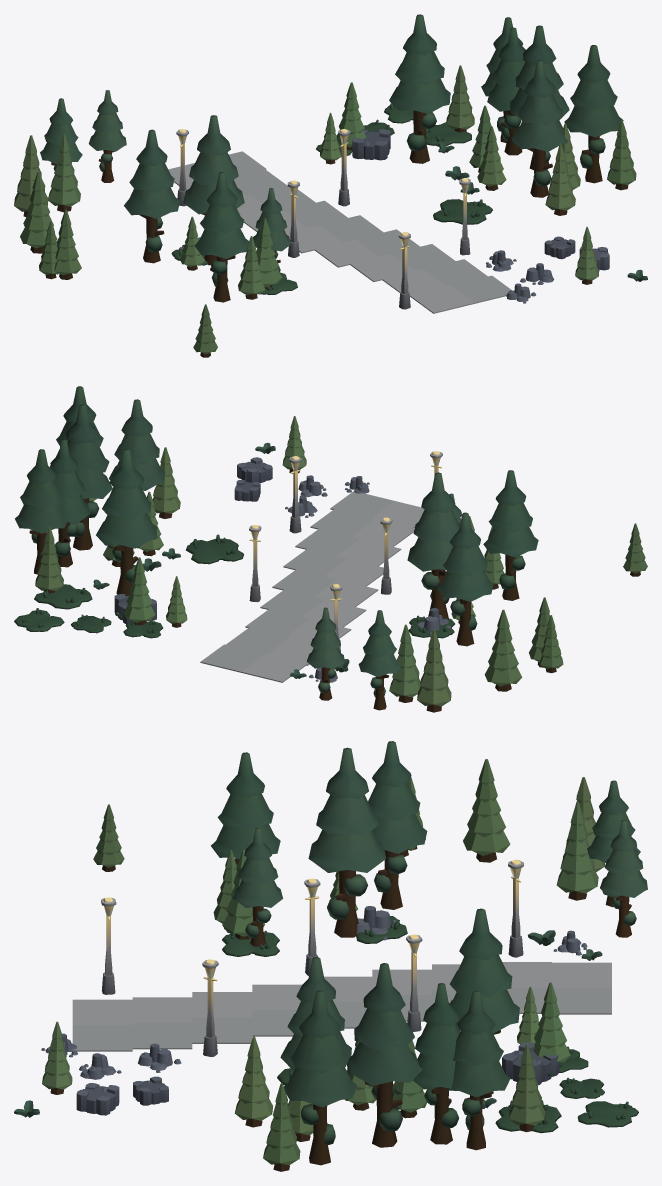
The model's file is trail-scene.glb.
The picture shows the model from 3 angles, top to bottom: view 1: azimuth 30°, elevation 25°; view 2: azimuth 150°, elevation 25°; view 3: azimuth 270°, elevation 25°; orthographic projection. The views are drawn at different scales.
Visible parts, largest first — view 1: p3|0.85,0.9,0.85 (×2), p0|1.1,1.05,0.85 (×9), p3|0.8,0.8,0.75 (×2), p0|1.2,1.1,0.9 (×5), p3|1,0.95,0.95 (×2), p3|0.9,0.85,0.85, p3|0.9,0.9,0.9, p1|1.25,1.15,0.95 (×5), p2|0.85,0.9,0.9 (×2), p3|0.75,0.8,0.75, p2|0.85,0.95,0.9 (×2), p3|0.8,0.8,0.8 (+19 smaller); view 2: p0|1.1,1.05,0.85 (×9), p3|0.85,0.9,0.85 (×2), p0|1.2,1.1,0.9 (×9), p3|1,0.95,0.95, p3|0.8,0.8,0.75 (×2), p3|0.9,0.9,0.9, p3|0.8,0.8,0.8, p3|0.75,0.8,0.75, p3|0.9,0.85,0.85, p4|1,1,1 (×3), p3|0.95,0.95,0.9, p2|0.85,0.9,0.9 (×2) (+17 smaller); view 3: p3|0.8,0.8,0.75 (×2), p0|1.2,1.1,0.9 (×8), p3|1,0.95,0.95 (×2), p3|0.85,0.9,0.85 (×2), p0|1.1,1.05,0.85 (×6), p3|0.8,0.8,0.8, p3|0.9,0.9,0.9, p3|0.75,0.8,0.75, p1|1.25,1.15,0.95 (×5), p2|0.85,0.9,0.9 (×2), p3|1.1,1,0.95, p2|0.85,0.95,0.9 (×2) (+21 smaller).
Part boxes in pixels (box(x1,y1,x2,y2)): p3|0.85,0.9,0.85 (×2): box(194, 14, 450, 302); p0|1.1,1.05,0.85 (×9): box(229, 151, 511, 303); p3|0.8,0.8,0.75 (×2): box(481, 17, 623, 183); p0|1.2,1.1,0.9 (×5): box(286, 225, 474, 313); p3|1,0.95,0.95 (×2): box(183, 115, 290, 272); p3|0.9,0.85,0.85: box(511, 60, 567, 197); p3|0.9,0.9,0.9: box(124, 129, 179, 263); p1|1.25,1.15,0.95 (×5): box(176, 129, 470, 309); p2|0.85,0.9,0.9 (×2): box(48, 134, 265, 299); p3|0.75,0.8,0.75: box(487, 27, 525, 155); p2|0.85,0.95,0.9 (×2): box(256, 82, 366, 289); p3|0.8,0.8,0.8: box(510, 25, 569, 170); p0|1.1,1.05,0.85 (×9): box(200, 491, 394, 672); p3|0.85,0.9,0.85 (×2): box(96, 449, 538, 600); p0|1.2,1.1,0.9 (×9): box(241, 501, 424, 682); p3|1,0.95,0.95: box(407, 472, 460, 618); p3|0.8,0.8,0.75 (×2): box(15, 386, 109, 574); p3|0.9,0.9,0.9: box(437, 512, 493, 646); p3|0.8,0.8,0.8: box(66, 404, 112, 550); p3|0.75,0.8,0.75: box(50, 439, 90, 567); p3|0.9,0.85,0.85: box(109, 399, 165, 490); p4|1,1,1 (×3): box(71, 534, 243, 638); p3|0.95,0.95,0.9: box(358, 610, 401, 710); p2|0.85,0.9,0.9 (×2): box(389, 526, 504, 702); p3|0.8,0.8,0.75 (×2): box(284, 990, 510, 1165); p0|1.2,1.1,0.9 (×8): box(72, 962, 611, 1024); p3|1,0.95,0.95 (×2): box(233, 747, 386, 946); p3|0.85,0.9,0.85 (×2): box(211, 752, 519, 1093); p0|1.1,1.05,0.85 (×6): box(72, 987, 611, 1051); p3|0.8,0.8,0.8: box(347, 963, 422, 1147); p3|0.9,0.9,0.9: box(368, 741, 427, 909); p3|0.75,0.8,0.75: box(412, 983, 460, 1144); p1|1.25,1.15,0.95 (×5): box(101, 859, 523, 1056); p2|0.85,0.9,0.9 (×2): box(213, 801, 598, 929); p3|1.1,1,0.95: box(600, 820, 647, 937); p2|0.85,0.95,0.9 (×2): box(222, 850, 570, 1062).
Bounding box in the file's own units: 13.29 × 3.37 × 10.58.
